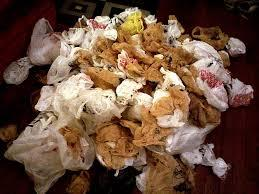Plastic bag: (0, 1, 256, 189)
